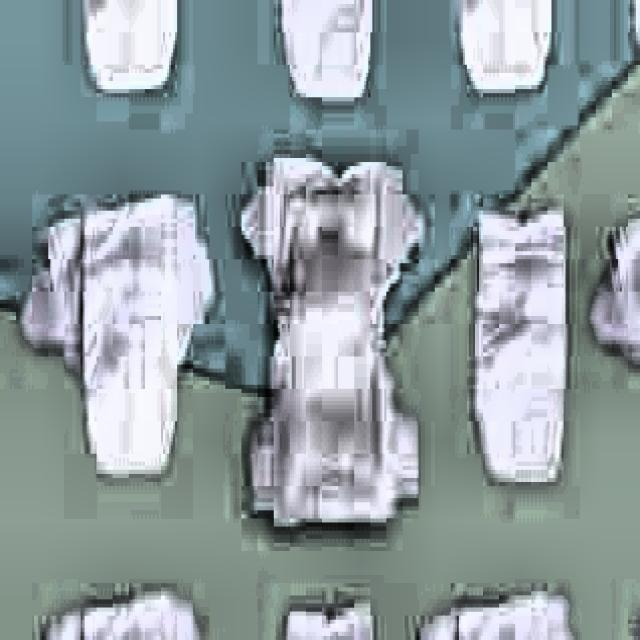trash: (238, 160, 424, 529), (32, 183, 211, 485), (472, 202, 568, 480), (279, 2, 372, 105), (18, 215, 86, 355), (82, 2, 179, 98), (458, 2, 554, 97), (593, 211, 640, 364)
